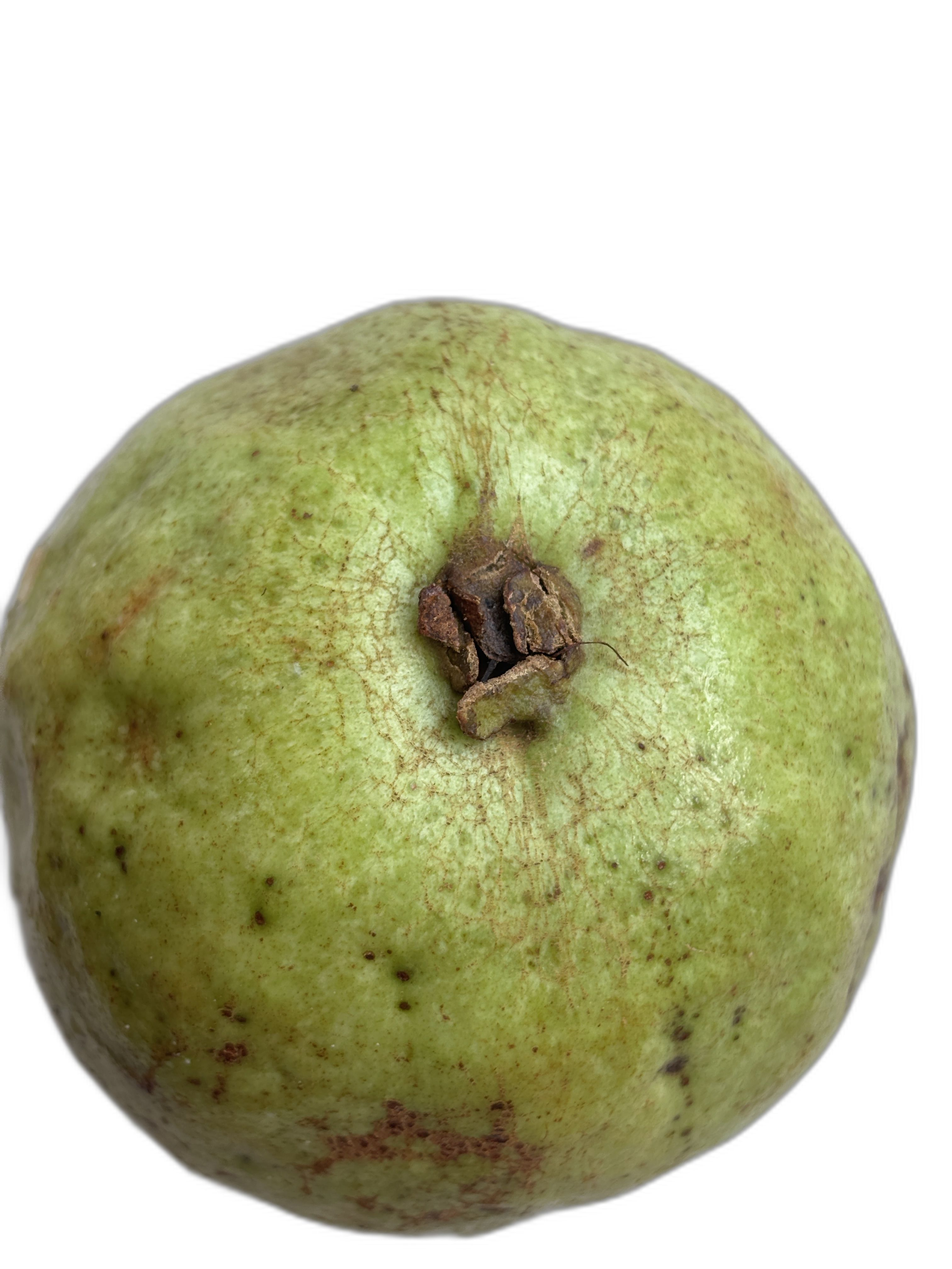guava: (125, 335, 754, 1101)
